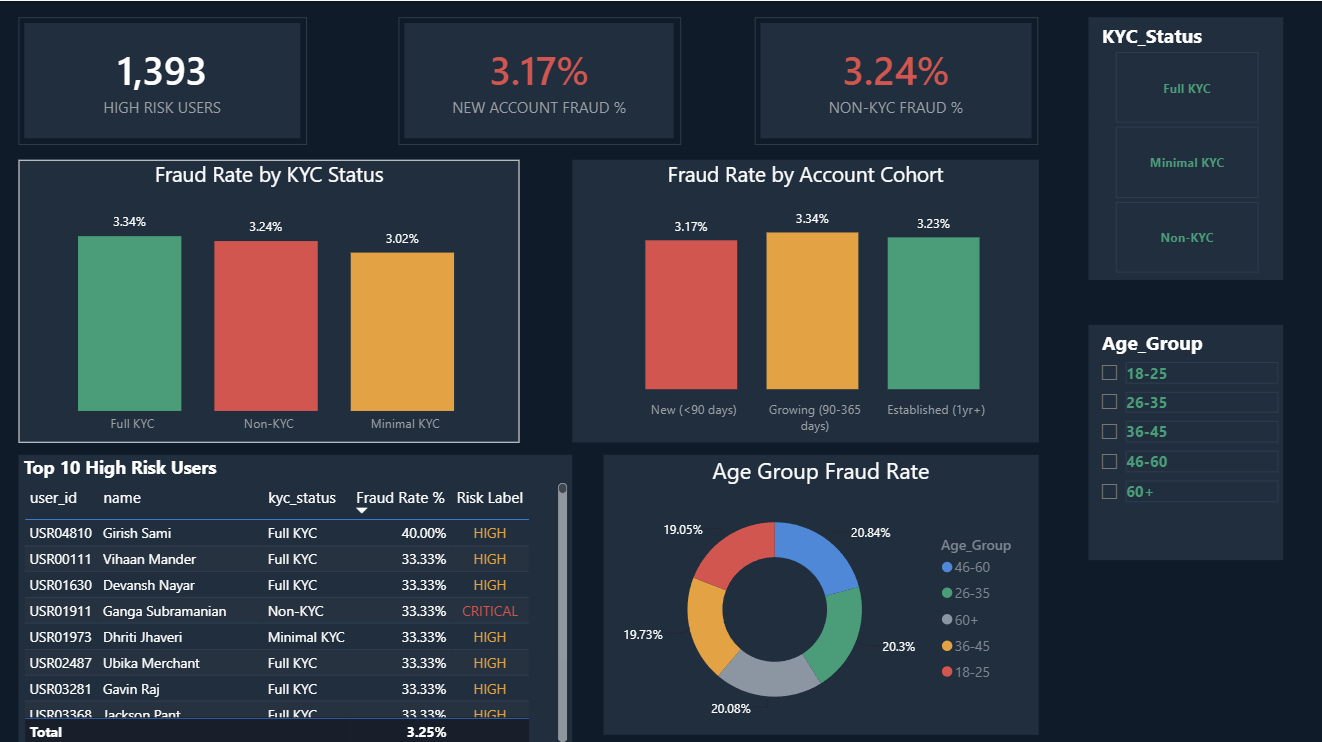

What the dashboard file says about the page in this screenshot:
{"tool":"powerbi","page":{"name":"USER RISK PROFILES","canvas":[1280,720],"ordinal":2},"visuals":[{"type":"cardVisual","fields":{"Data":["Mesures.High Risk Users Display"]},"box":[21.7,15.7,278.7,123.1],"z":0},{"type":"cardVisual","fields":{"Data":["Mesures.Non-KYC Fraud %"]},"box":[732.3,15.7,273.9,123.1],"z":1000},{"type":"cardVisual","fields":{"Data":["Mesures.New Account Fraud %"]},"box":[388.5,15.7,272.7,123.1],"z":2000},{"type":"clusteredColumnChart","title":"Fraud Rate by KYC Status","fields":{"Category":["Users.kyc_status"],"Y":["Mesures.Fraud Rate %"]},"box":[21.7,153.2,483.8,272.7],"z":3000},{"type":"clusteredColumnChart","title":"Fraud Rate by Account Cohort","fields":{"Category":["Users.account_cohort"],"Y":["Mesures.Fraud Rate %"]},"box":[556.2,153.2,450,272.7],"z":4000},{"type":"tableEx","title":"Top 10 High Risk Users","fields":{"Values":["Users.user_id","Users.name","Users.kyc_status","Mesures.Fraud Rate %","Users.Risk Label"]},"box":[21.7,437.9,534.5,283.5],"z":5000},{"type":"slicer","fields":{"Values":["Users.kyc_status"]},"box":[1054.4,15.7,188.2,253.4],"z":6000},{"type":"slicer","fields":{"Values":["Users.age_group"]},"box":[1054.4,312.5,188.2,226.8],"z":7000},{"type":"donutChart","title":"Age Group Fraud Rate","fields":{"Category":["Users.age_group"],"Y":["Mesures.Fraud Rate %"]},"box":[586.3,437.9,419.8,270.2],"z":8000}]}

Visuals, with their boxes in screenshot pixels (x1, y1, x2, y2), scaled from the page's 1280x720 canvas onto the 1322x742 screenshot:
cardVisual - Mesures.High Risk Users Display: [x1=22, y1=16, x2=310, y2=143]
cardVisual - Mesures.Non-KYC Fraud %: [x1=756, y1=16, x2=1039, y2=143]
cardVisual - Mesures.New Account Fraud %: [x1=401, y1=16, x2=683, y2=143]
"Fraud Rate by KYC Status" clusteredColumnChart: [x1=22, y1=158, x2=522, y2=439]
"Fraud Rate by Account Cohort" clusteredColumnChart: [x1=574, y1=158, x2=1039, y2=439]
"Top 10 High Risk Users" tableEx: [x1=22, y1=451, x2=574, y2=741]
slicer - Users.kyc_status: [x1=1089, y1=16, x2=1283, y2=277]
slicer - Users.age_group: [x1=1089, y1=322, x2=1283, y2=556]
"Age Group Fraud Rate" donutChart: [x1=606, y1=451, x2=1039, y2=730]
